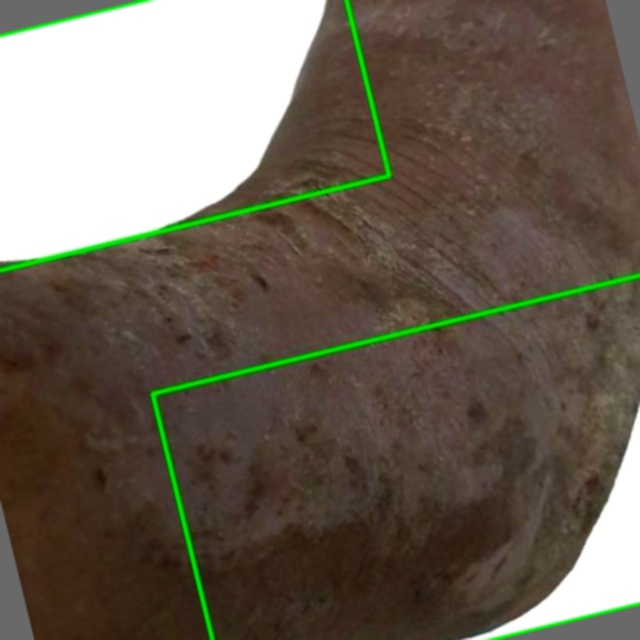Eczema: (152, 275, 639, 639), (0, 0, 389, 270)
